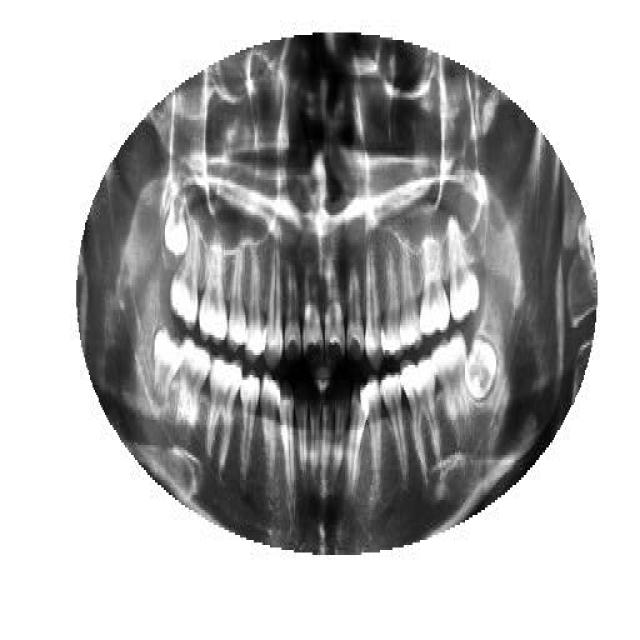Impacted Tooth: (465, 333, 499, 405), (162, 190, 188, 268)
